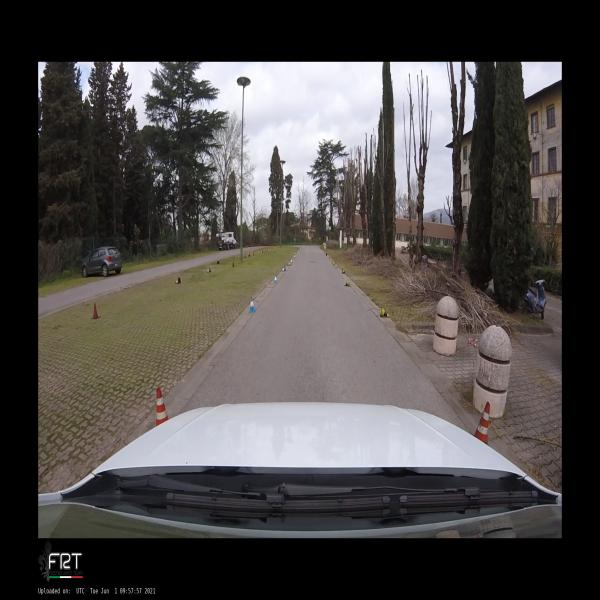blue_cone: (248, 297, 256, 312), (274, 274, 278, 283), (282, 267, 286, 271)
large_orange_cone: (474, 401, 490, 444), (156, 388, 169, 426)
unknown_cone: (91, 303, 101, 319), (175, 278, 181, 284), (207, 268, 211, 272), (232, 260, 234, 266), (217, 261, 219, 264)
yellow_cone: (380, 306, 390, 318), (344, 280, 350, 286), (342, 269, 346, 274), (333, 262, 335, 265)
